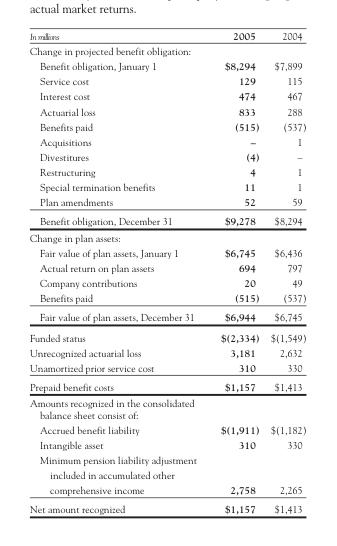table: (28, 29, 305, 514)
table column: (28, 29, 208, 514), (208, 29, 264, 514), (264, 29, 305, 514)
table column header: (28, 29, 305, 42)
table projected row header: (28, 394, 305, 421), (28, 228, 305, 244), (28, 42, 305, 57)
table row: (28, 451, 305, 499), (28, 394, 305, 421), (28, 307, 305, 326), (28, 326, 305, 344), (28, 376, 305, 394), (28, 194, 305, 211), (28, 211, 305, 228), (28, 290, 305, 307), (28, 359, 305, 376), (28, 72, 305, 88), (28, 178, 305, 194), (28, 228, 305, 244), (28, 274, 305, 290), (28, 42, 305, 57), (28, 57, 305, 72), (28, 88, 305, 103), (28, 103, 305, 118), (28, 118, 305, 133), (28, 133, 305, 148), (28, 148, 305, 163), (28, 163, 305, 178), (28, 244, 305, 259), (28, 259, 305, 274), (28, 344, 305, 359), (28, 421, 305, 436), (28, 436, 305, 451), (28, 499, 305, 514), (28, 29, 305, 42)
